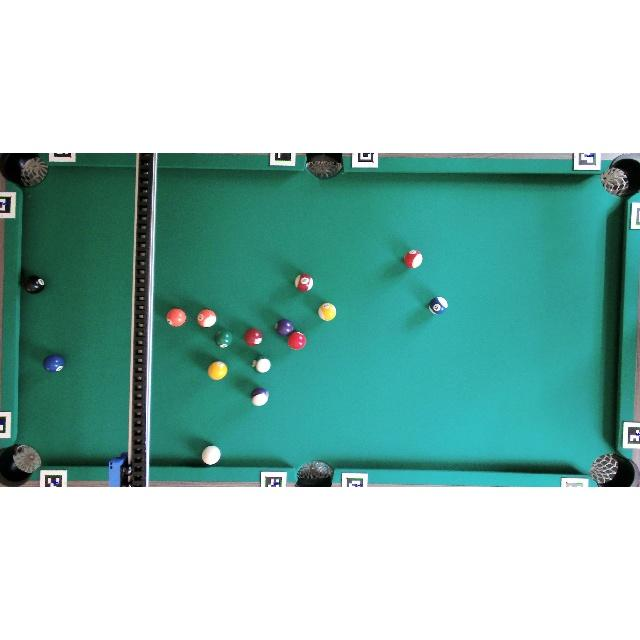cue ball: (201, 446, 221, 466)
other: (22, 276, 45, 294), (43, 354, 64, 373), (166, 308, 186, 327), (208, 361, 227, 380), (428, 297, 448, 315), (244, 328, 263, 346), (288, 331, 306, 350), (275, 318, 294, 336), (214, 330, 233, 348), (295, 274, 313, 292), (198, 309, 216, 327), (318, 302, 336, 320), (404, 250, 422, 268), (250, 388, 268, 406), (252, 358, 270, 373)
